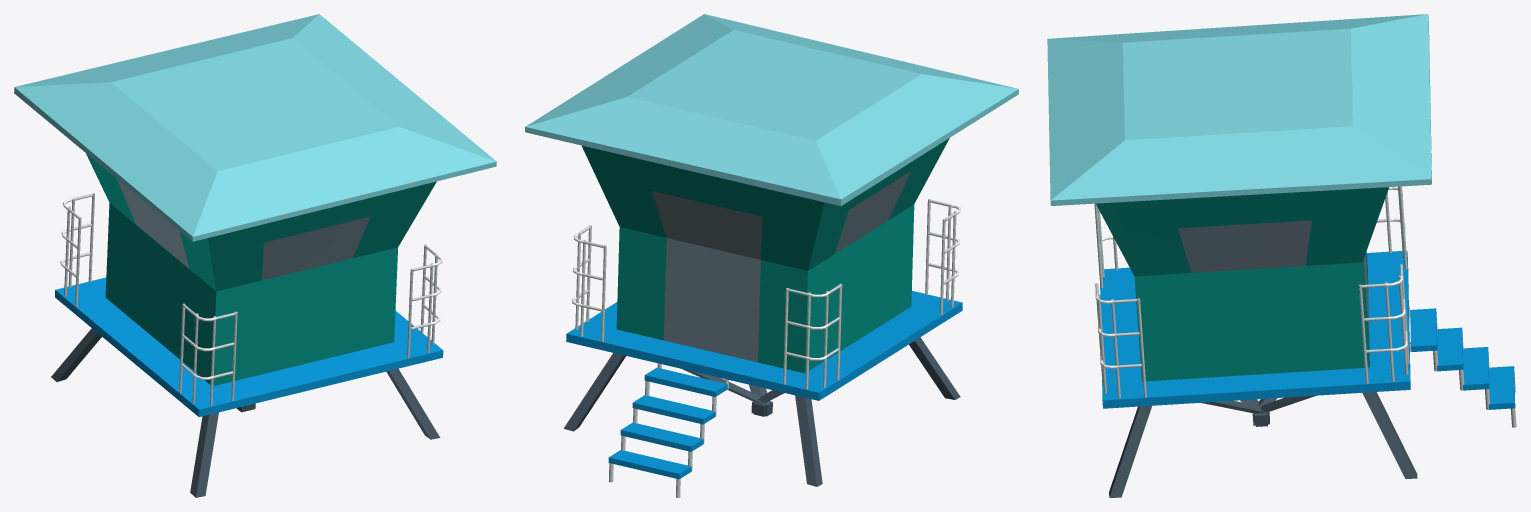
The model's file is lifeguard.glb.
3 renders of one model, left to right at view 1: azimuth 30°, elevation 25°; view 2: azimuth 150°, elevation 25°; view 3: azimuth 270°, elevation 25°, orthographic. The views are drawn at different scales.
Visible parts, largest first — view 1: group1257859374; view 2: group1257859374; view 3: group1257859374.
Part boxes in pixels (box(x1,y1,x2,y2)): group1257859374: box(14, 14, 496, 497); group1257859374: box(525, 14, 1018, 497); group1257859374: box(1047, 14, 1516, 497).
Size of the model in its own units: 2.51 by 2.55 by 3.06.
